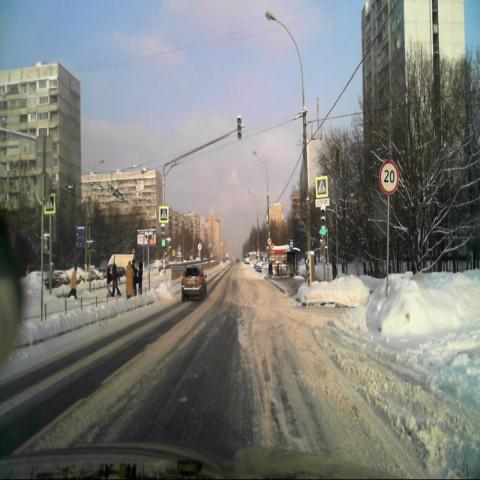3_24: (378, 159, 399, 195)
5_19_1: (315, 177, 328, 197), (44, 193, 56, 214), (159, 205, 169, 223)
